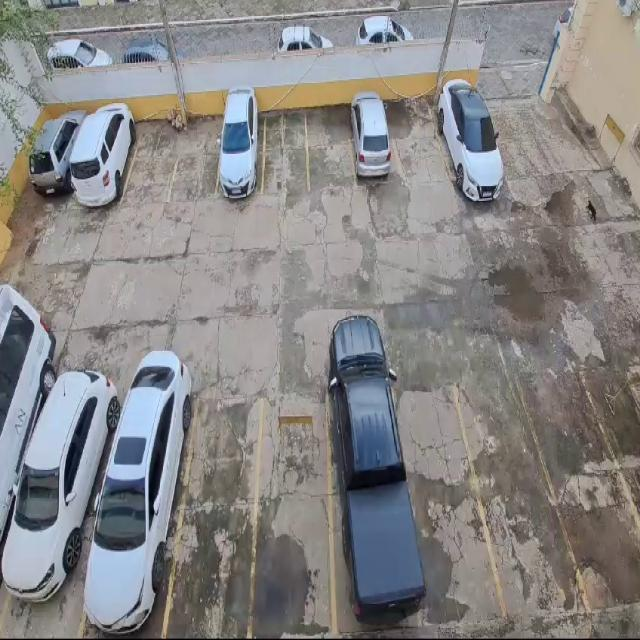empty: (459, 383, 585, 617), (519, 374, 639, 613), (392, 387, 501, 624), (164, 395, 261, 636), (250, 391, 335, 635), (121, 121, 186, 206), (389, 100, 449, 182), (168, 121, 225, 201), (263, 112, 311, 191), (307, 108, 354, 186)
notEmpty: (0, 407, 121, 631), (82, 404, 194, 638), (331, 390, 419, 629), (432, 95, 501, 186), (71, 126, 140, 207), (32, 122, 92, 207), (218, 115, 265, 196), (350, 104, 399, 181)
